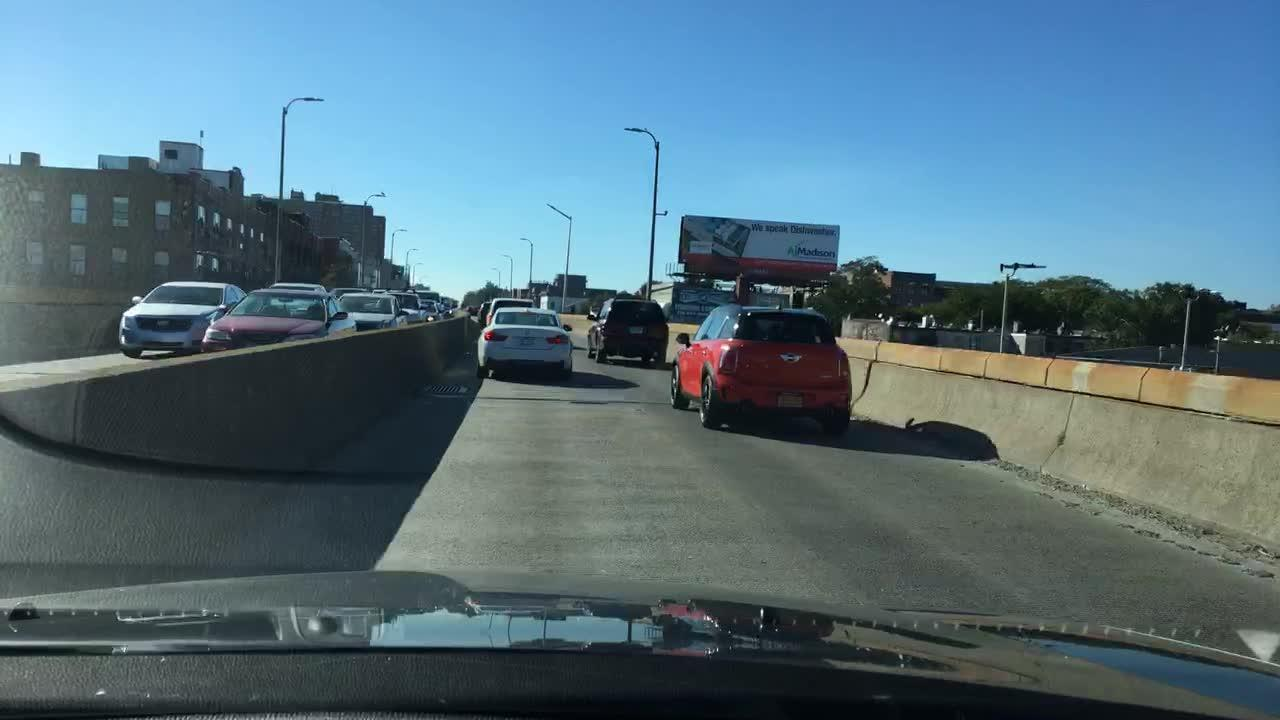mini: (776, 351, 806, 367)
